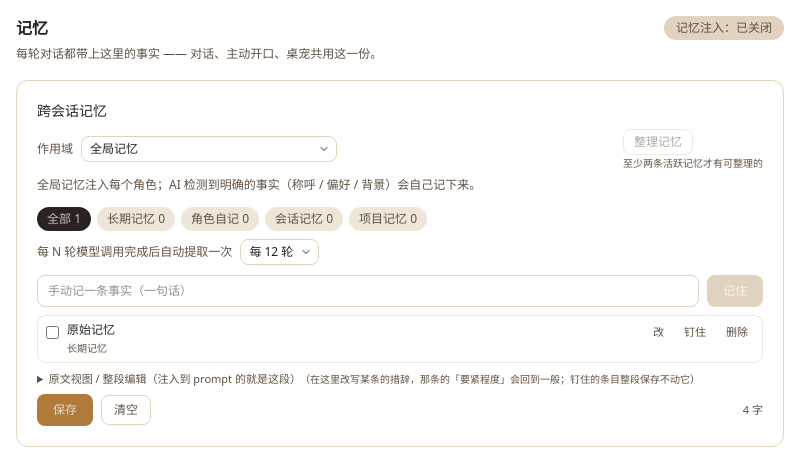
Test case: 记忆卡逐条列表（事实面是条目） › 「记住」提交一条并采用返回的 payload
The width and height of the screenshot is (801, 464).
Type "新的" into the field with placeholder "手动记一条事实（一句话）". click: (368, 290)
box: [37,274,699,306]
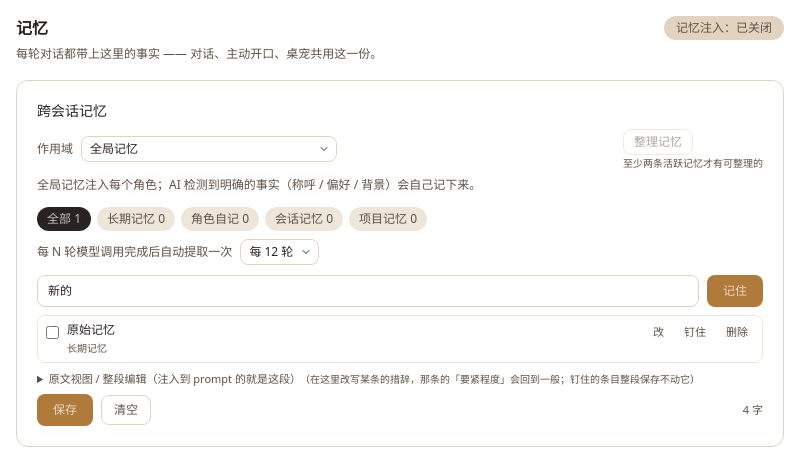
Click the button "记住". click: (735, 290)
box: [707,274,763,306]
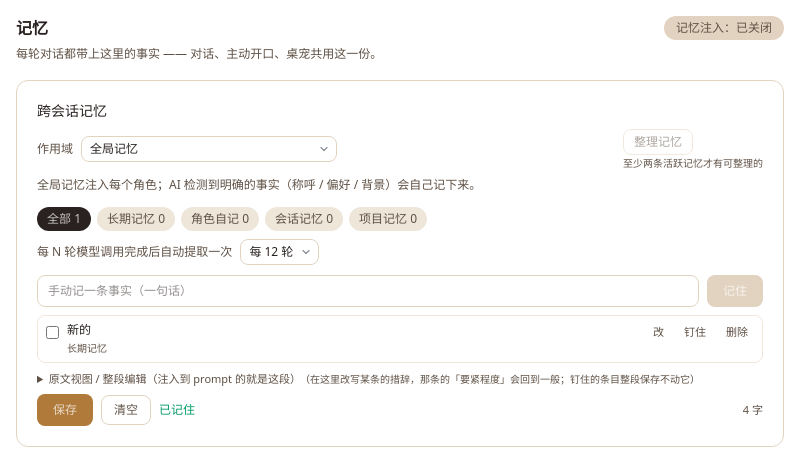
Result: the text "新的" is shown at [67,320,91,338]
